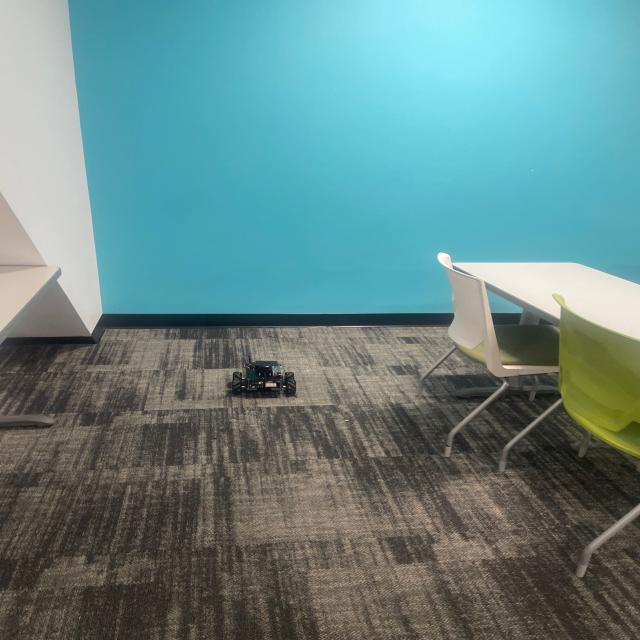ArduinoCar3: (228, 354, 300, 399)
